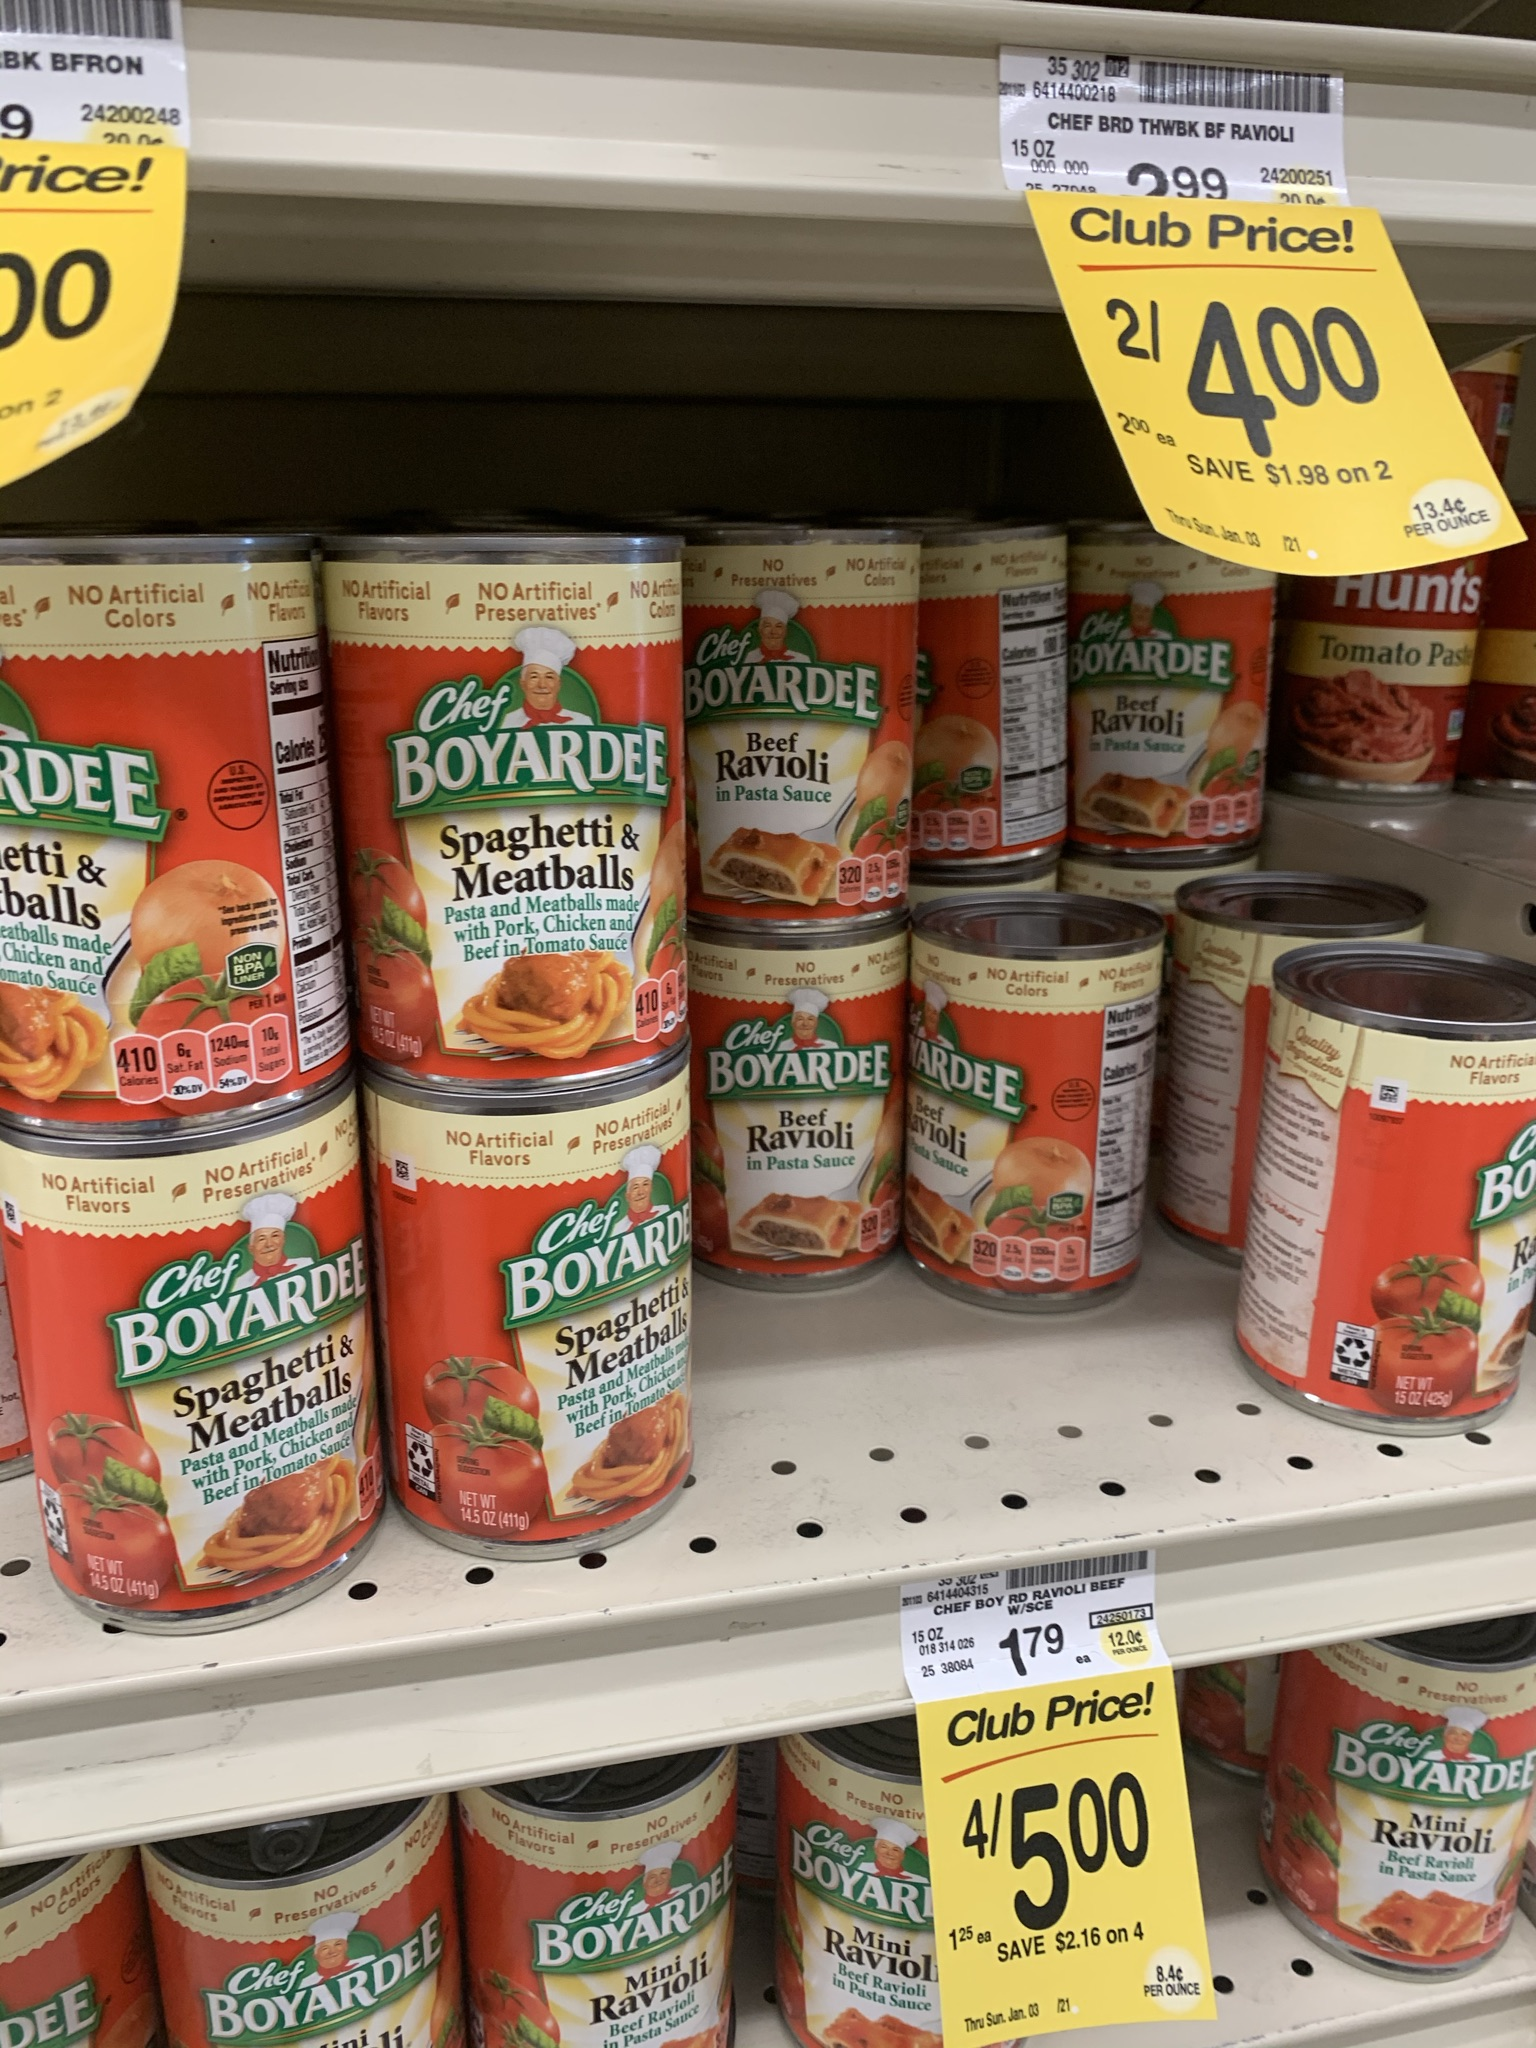can: (10, 560, 307, 1118), (358, 553, 679, 1061), (19, 1156, 363, 1540), (407, 1106, 691, 1501), (1276, 1000, 1526, 1406), (703, 548, 905, 918), (925, 951, 1131, 1288), (474, 1780, 728, 2048), (1299, 1655, 1518, 1940), (700, 953, 894, 1272), (1094, 564, 1271, 851)
